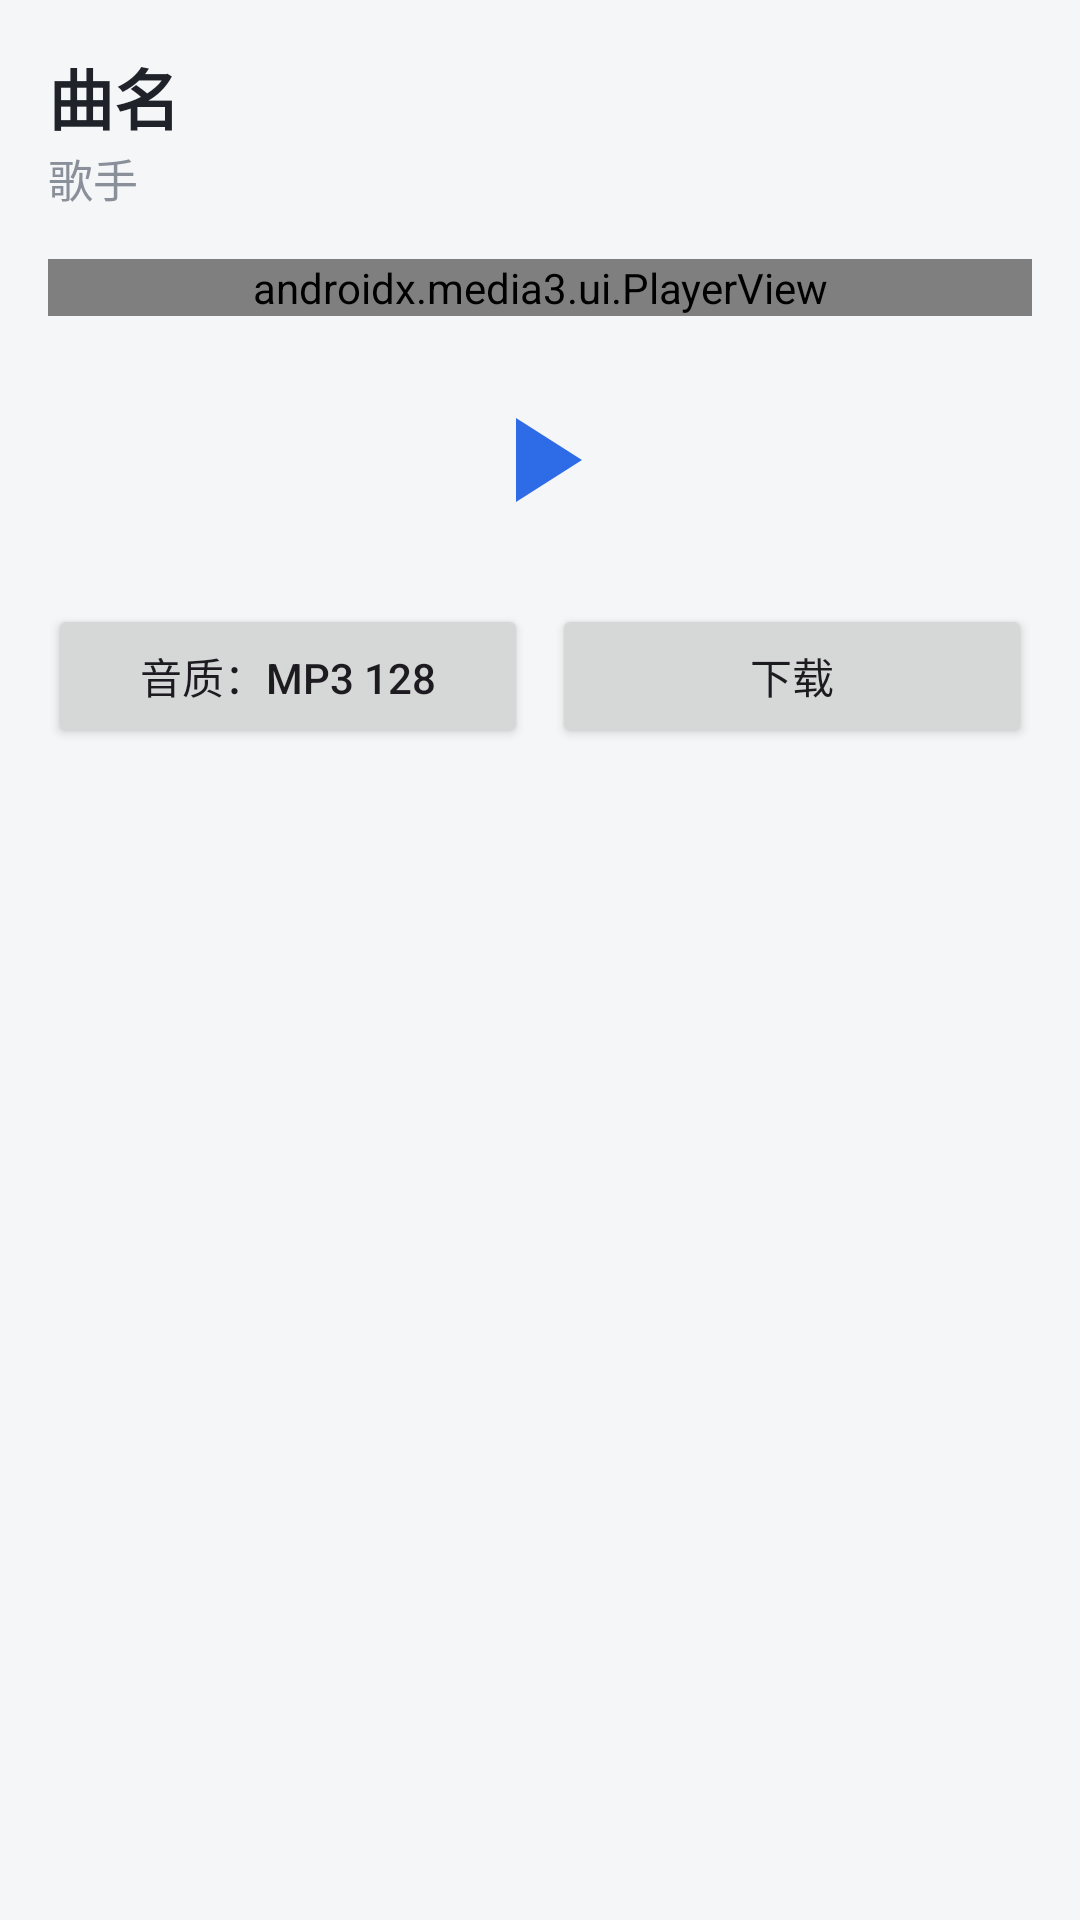

Named icons in this screenshot (1080 x 1920) and their bounding boxes, (x1, y1, x2, y2):
播放/暂停: (516, 418, 582, 502)
